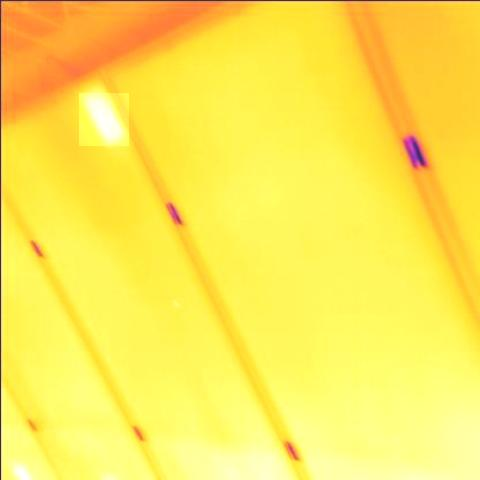fault: (79, 93, 129, 146)
